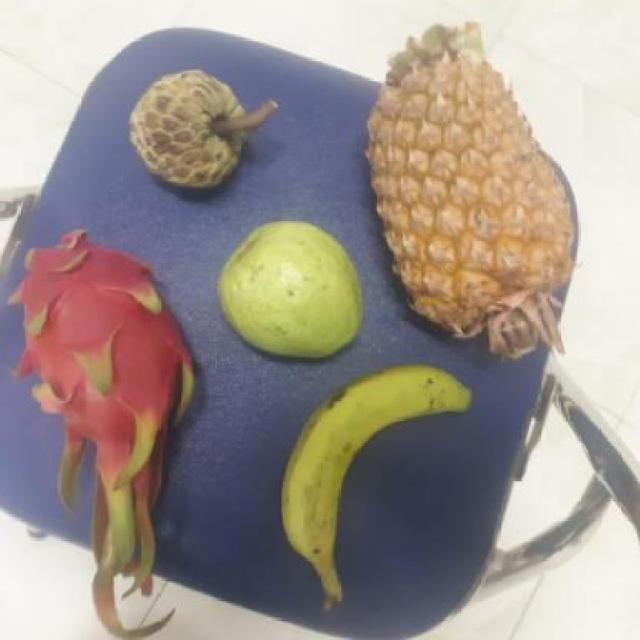banana: (272, 368, 472, 564)
dragon fruit: (5, 233, 196, 489)
guava: (210, 221, 362, 357)
pineapple: (369, 43, 573, 352)
sugar apple: (123, 71, 249, 192)
